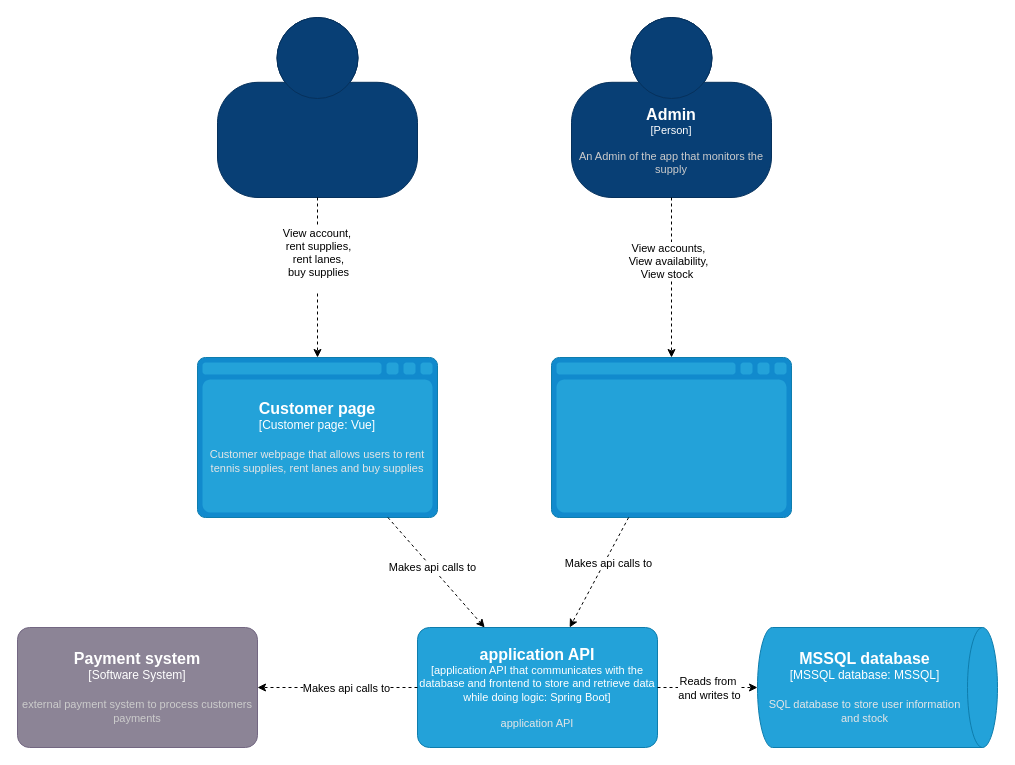
This 1015x765 diagram has some shape labels left out. Here are the shapes that lost their labels. From the top down, the box of each, then its label:
(216, 16, 418, 198): Customer [Person] An User of the app who uses this app to rent and buy supplies
(550, 356, 792, 518): Admin Dashboard [Admin Dashboard: Vue] Admin dashboard to monitor supply
